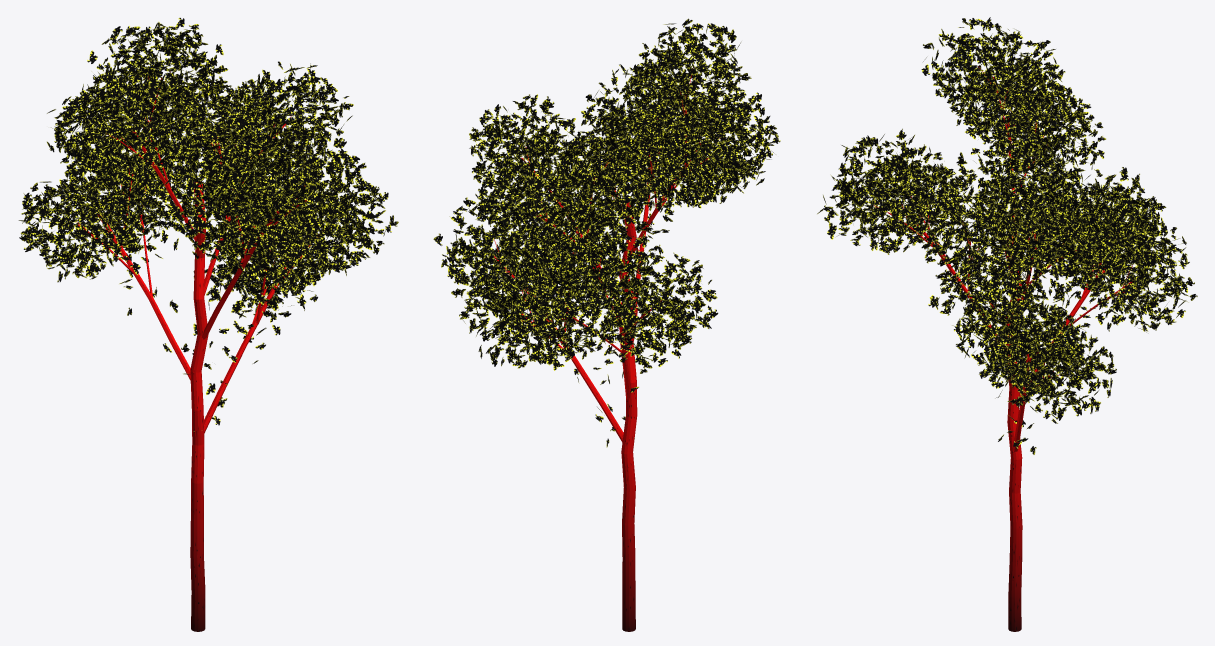
The model's file is birch_pale_v02.glb.
The picture shows the model from 3 angles, left to right: view 1: azimuth 30°, elevation 25°; view 2: azimuth 150°, elevation 25°; view 3: azimuth 270°, elevation 25°; orthographic projection. The views are drawn at different scales.
Parts seen in each view (by area): view 1: birch_pale_v02; view 2: birch_pale_v02; view 3: birch_pale_v02.
Boxes of the visible parts, bbox=[...] form: birch_pale_v02: bbox=[18, 18, 398, 631]; birch_pale_v02: bbox=[433, 18, 780, 631]; birch_pale_v02: bbox=[817, 17, 1197, 631].
Bounding box in the file's own units: 10.58 × 18.45 × 11.
Materials: 2 (2 with a texture image).
